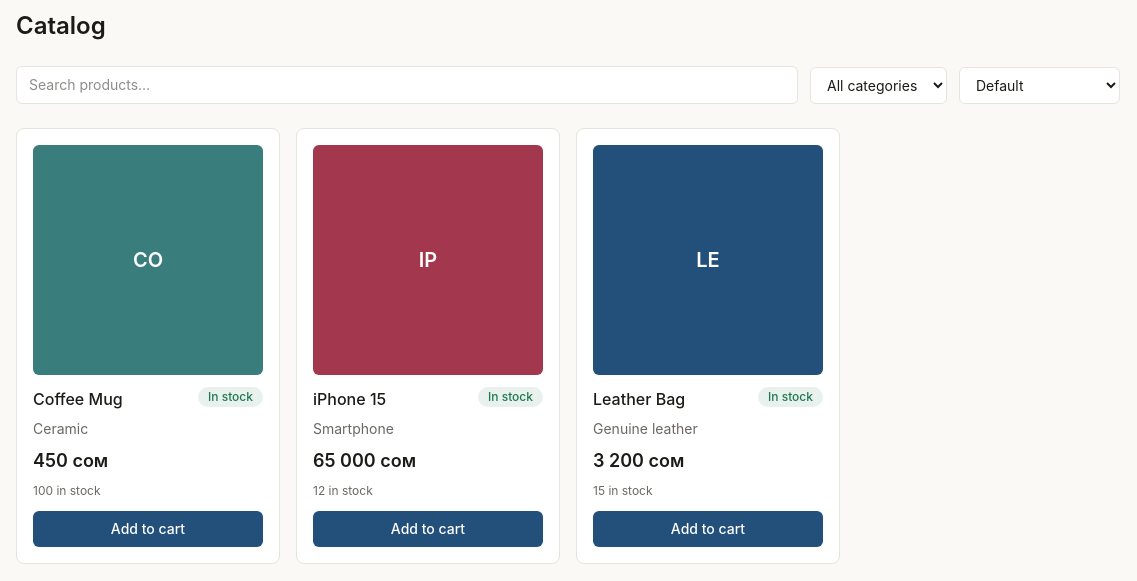
it: CatalogPage: search and sort (Phase 7) › shows a 'no products match' state with a clear-filters action for an unmatched search
expect the heading "Coffee Mug" is shown: met, box [33,387,123,411]
Type "nonexistent product xyz" into the search field labelled "Search products" at (407,85), box [16,66,798,104]
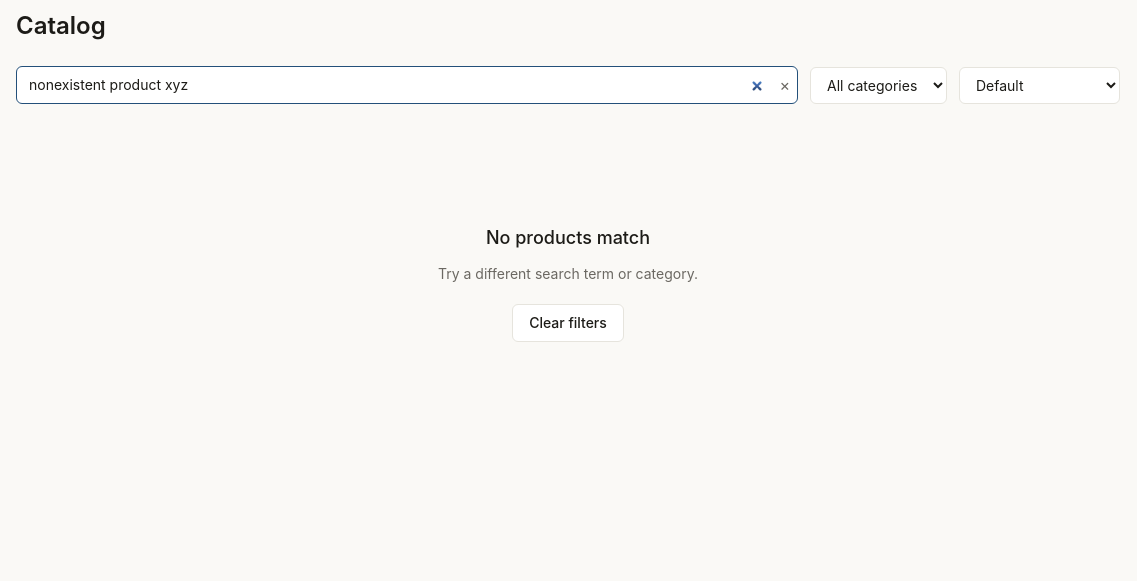
expect the heading "No products match" is shown: met, box [486,224,650,252]
Click the button "Clear filters" at (568,323), box [512,304,624,342]
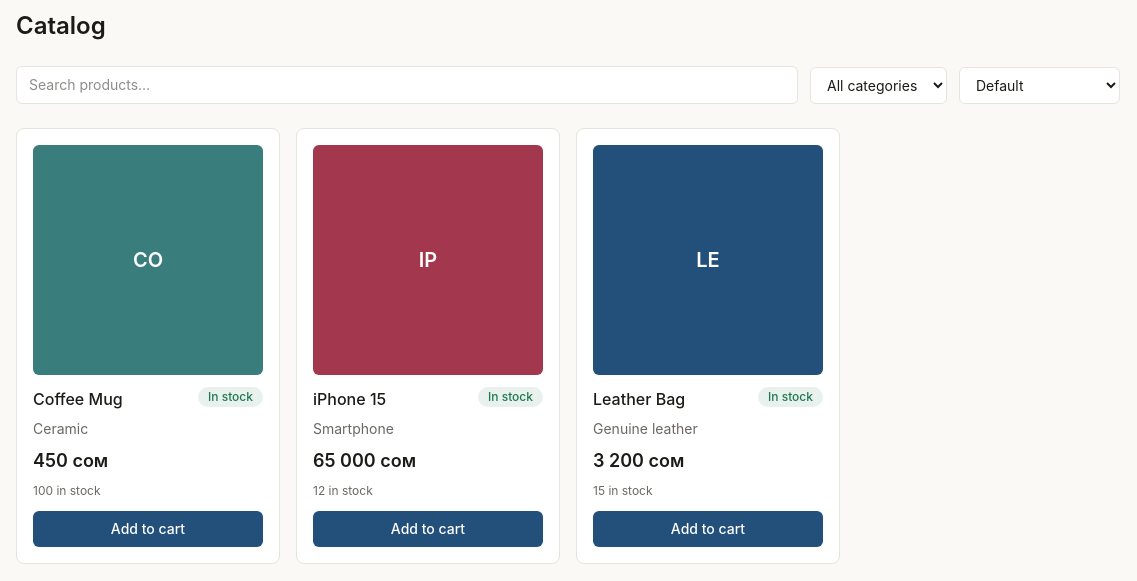
expect the heading "Coffee Mug" is shown: met, box [33,387,123,411]
